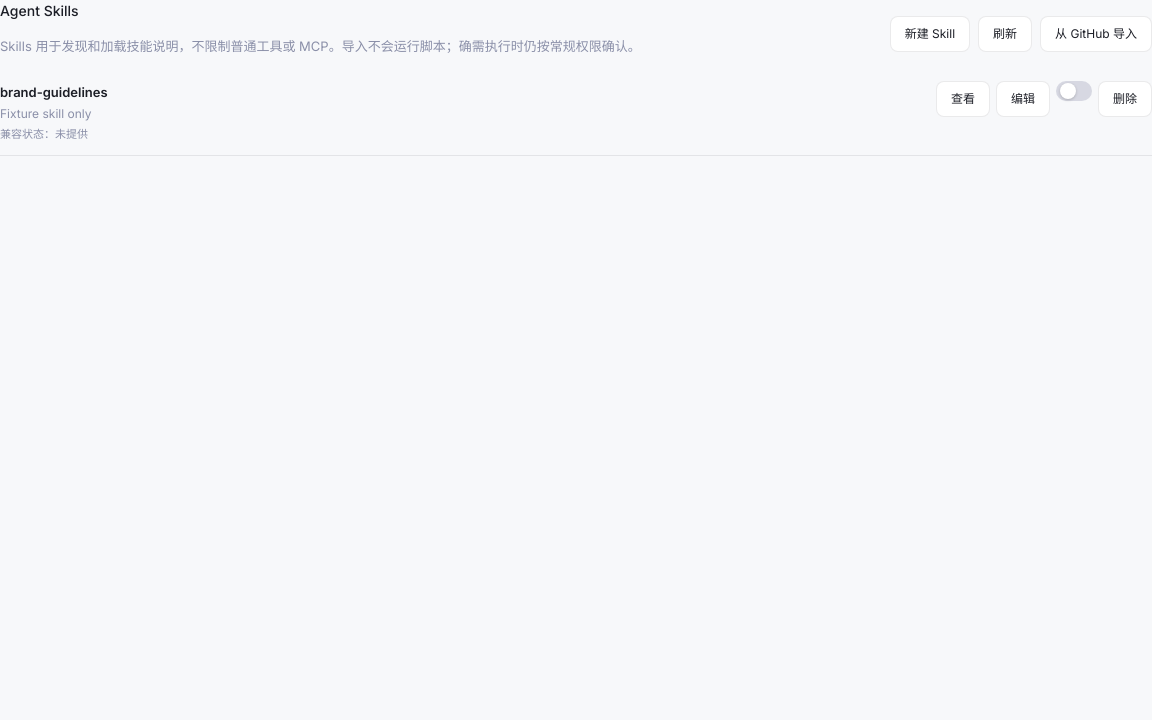
SkillsManager › removes the fixture from the list after DELETE succeeds
Expected: the text "Fixture skill only" is shown, 0,105 -> 108,123
Click the button with aria-label "删除技能: brand-guidelines". click: (1125, 98)
box: 1098,80 -> 1151,116
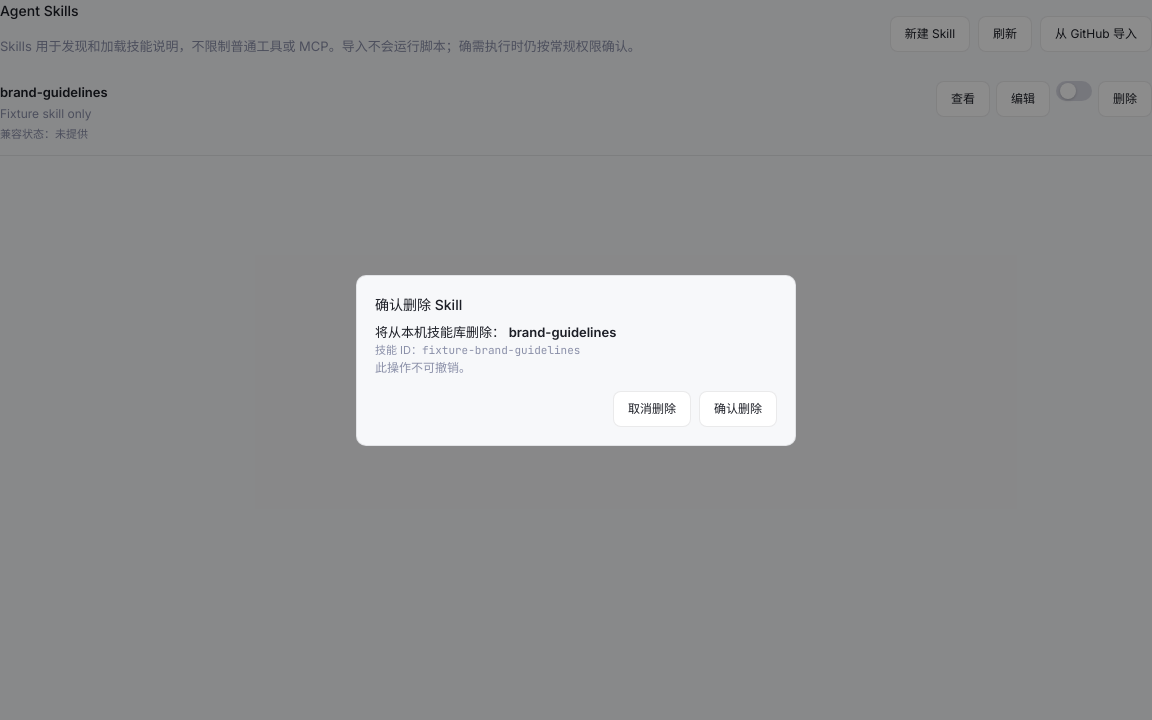
Click the button "确认删除". click: (738, 408)
box: 699,390 -> 777,426
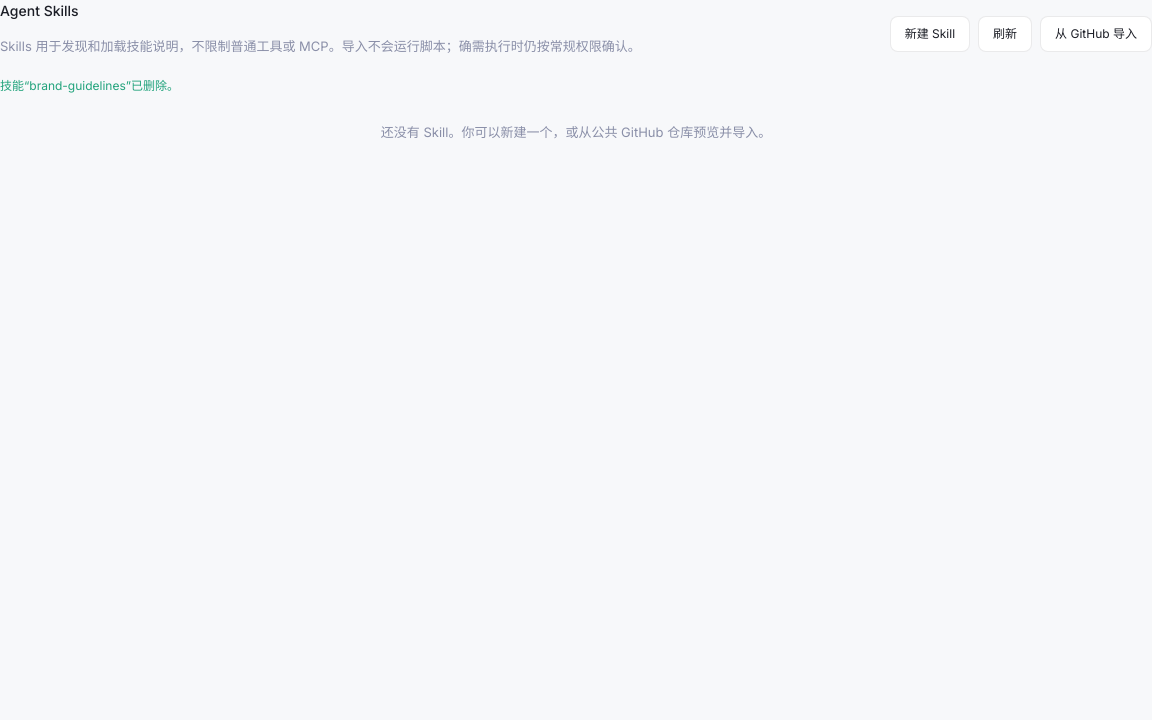
Expected: the text "还没有 Skill。你可以新建一个，或从公共 GitHub 仓库预览并导入。" is shown, 381,124 -> 771,140
